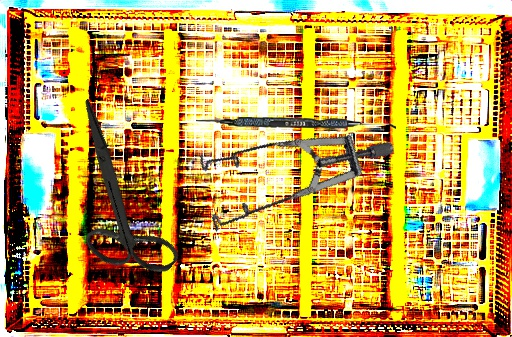Iris Scissors: (14, 98, 221, 297)
Spatula Surgical: (196, 117, 396, 129)
Speculum: (178, 85, 397, 278)
